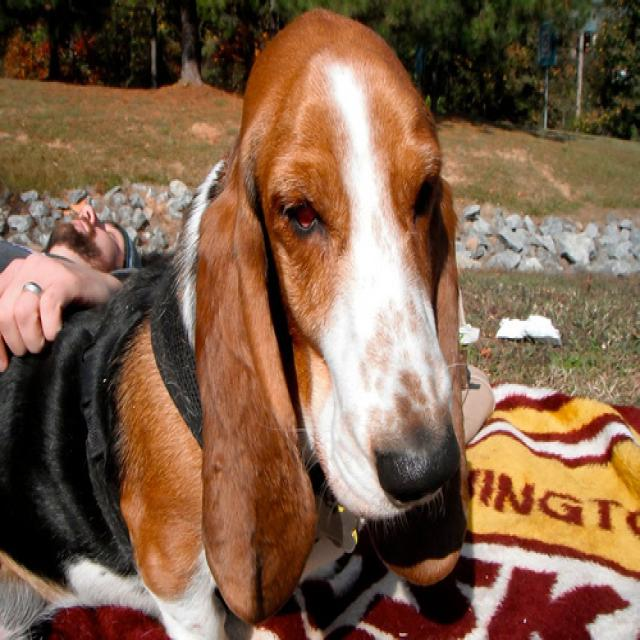dog-basset_hound: (1, 2, 479, 637)
